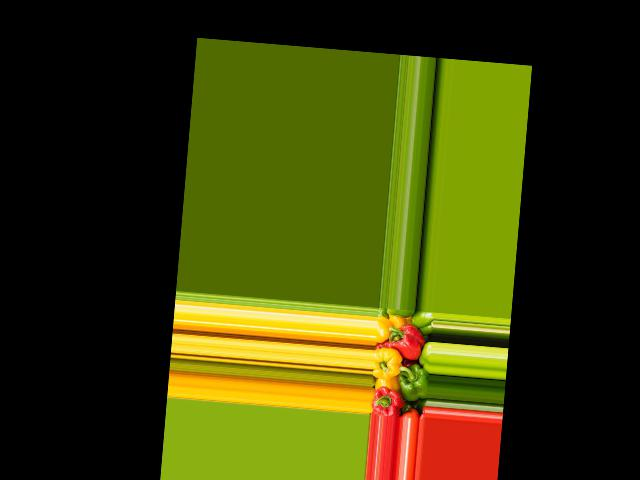bell_pepper: (370, 381, 406, 417)
